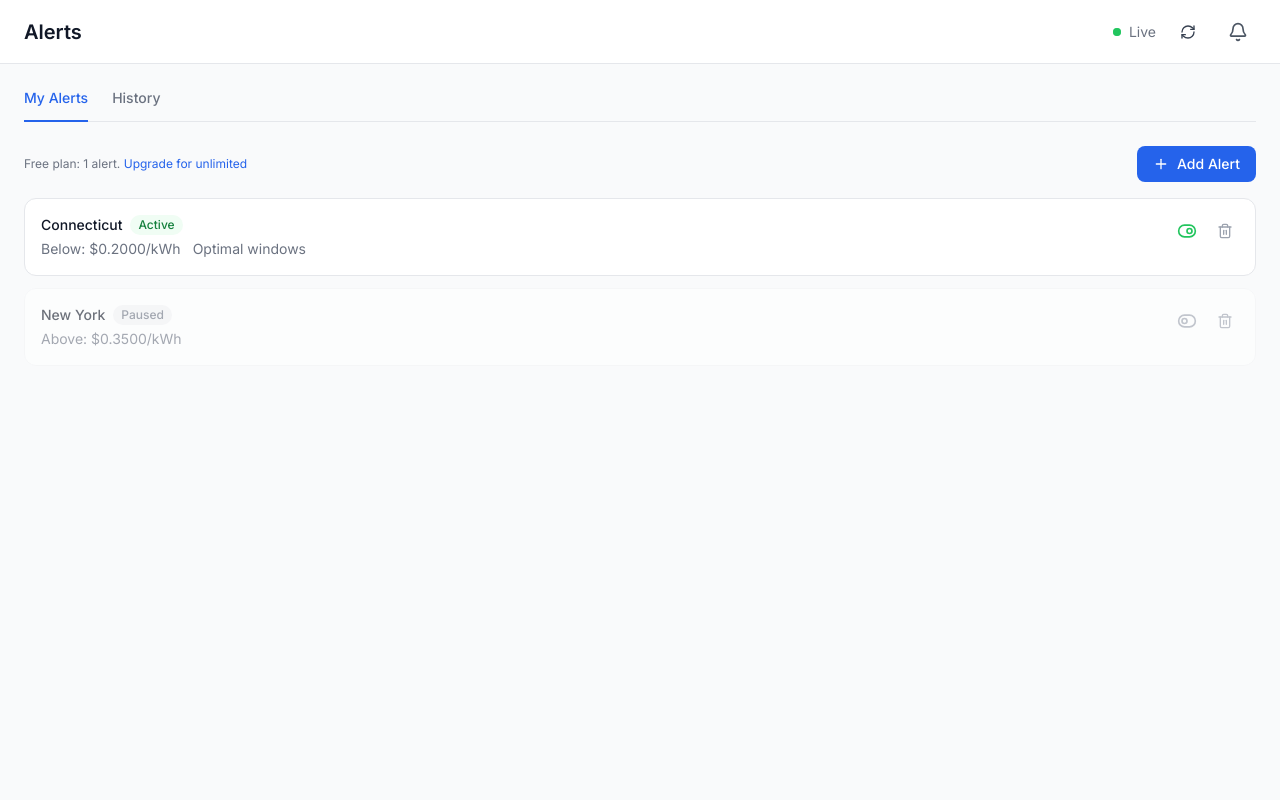
Scenario: AlertsContent › shows form when Add Alert button is clicked
Click the button "Add Alert".
click(1196, 164)  # box [1137,146,1256,182]
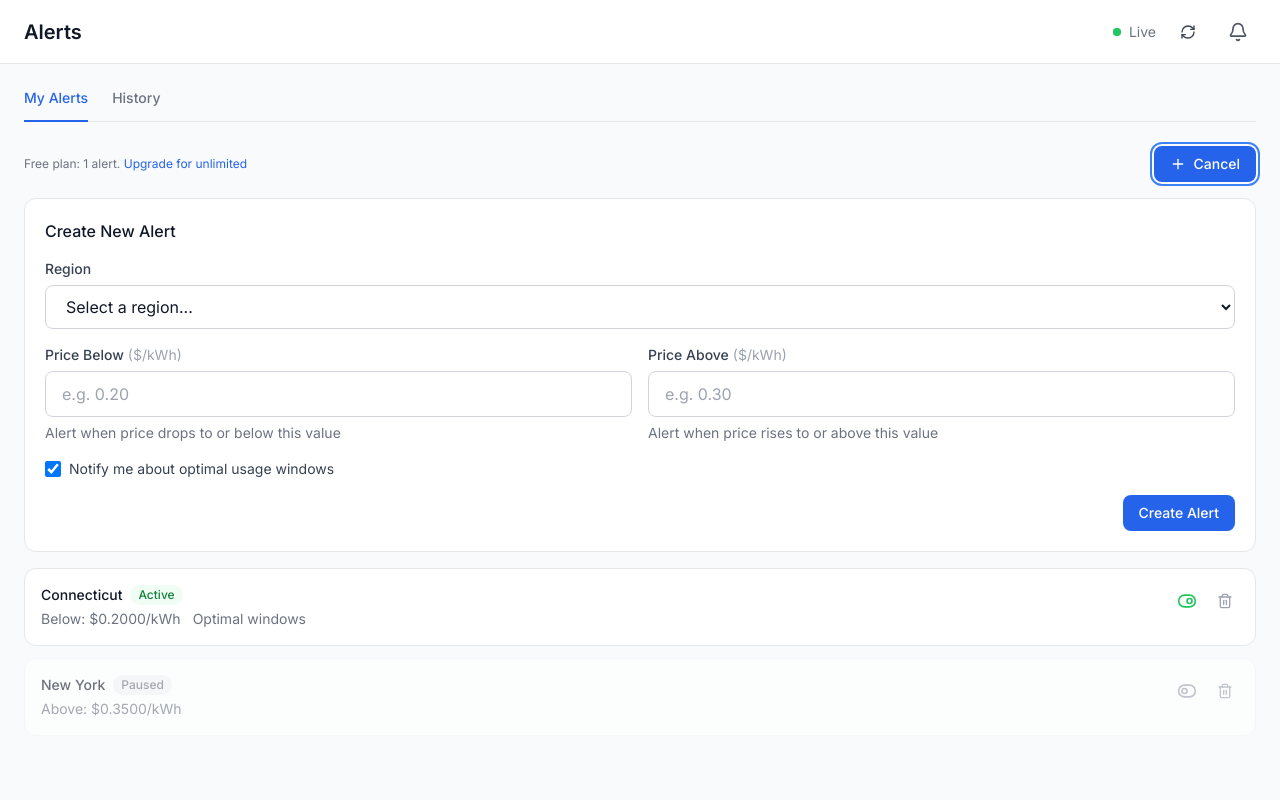
Expected: the form with test id "alert-form" is shown, [45,219,1235,531]
Expected: the heading "Create New Alert" is shown, [45,221,176,241]
